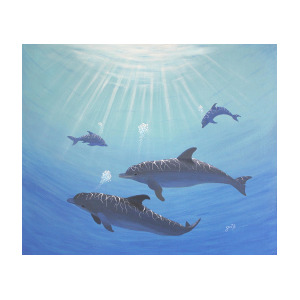dolphin: (59, 185, 206, 244), (116, 147, 254, 201), (58, 126, 115, 156), (193, 101, 247, 131)
